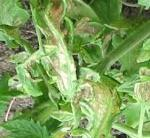Tomato leaf mosaic virus: (45, 17, 81, 94)
